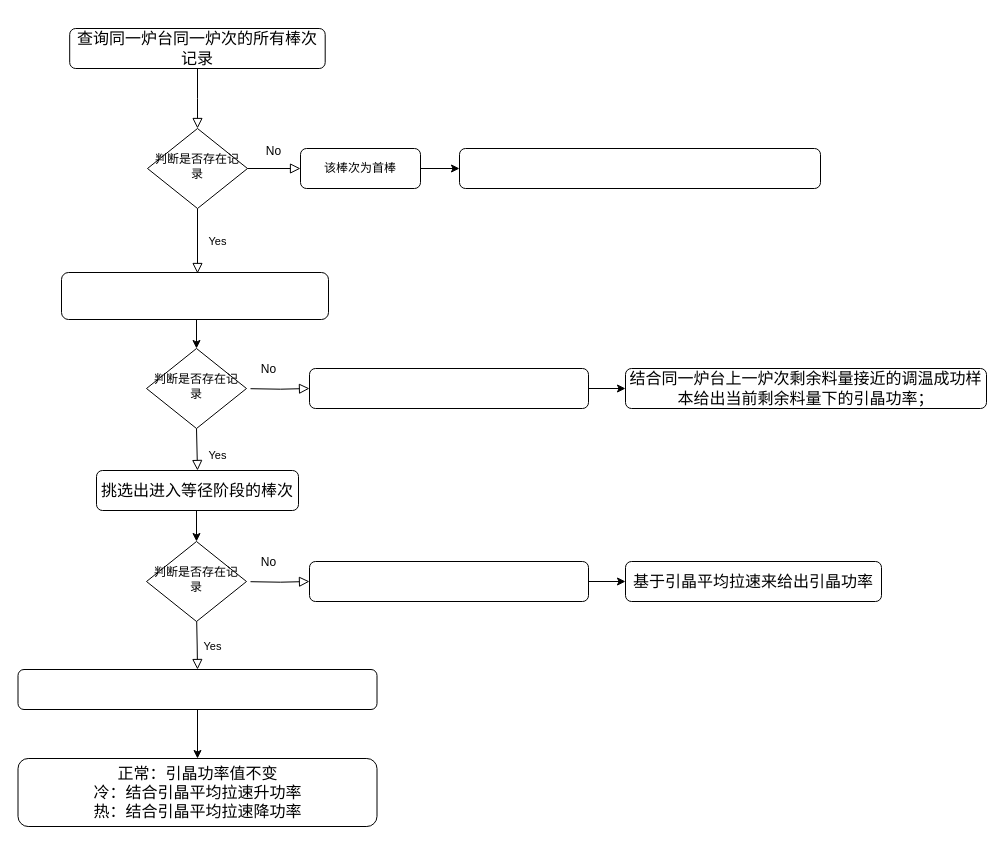
The diagram is 1004 pixels wide and 850 high, and some of its shapes have lost their labels. Each missing label, with the centre of its shape:
"剩余料量与同炉次各棒次剩余料量偏差大于100kg" belongs at [448,388].
"挑选放断棒次" belongs at [448,581].
"查询当前剩余料量偏差值100kg内的所有棒次" belongs at [194,296].
"结合同一炉台上一炉次剩余料量接近的调温成功样本给出新开炉第一棒次的引晶功率" belongs at [639,168].
"结合引晶平均拉速、放肩时长以及是否干预功率三个字段来判断冷、热、正常的状态" belongs at [197,689].
